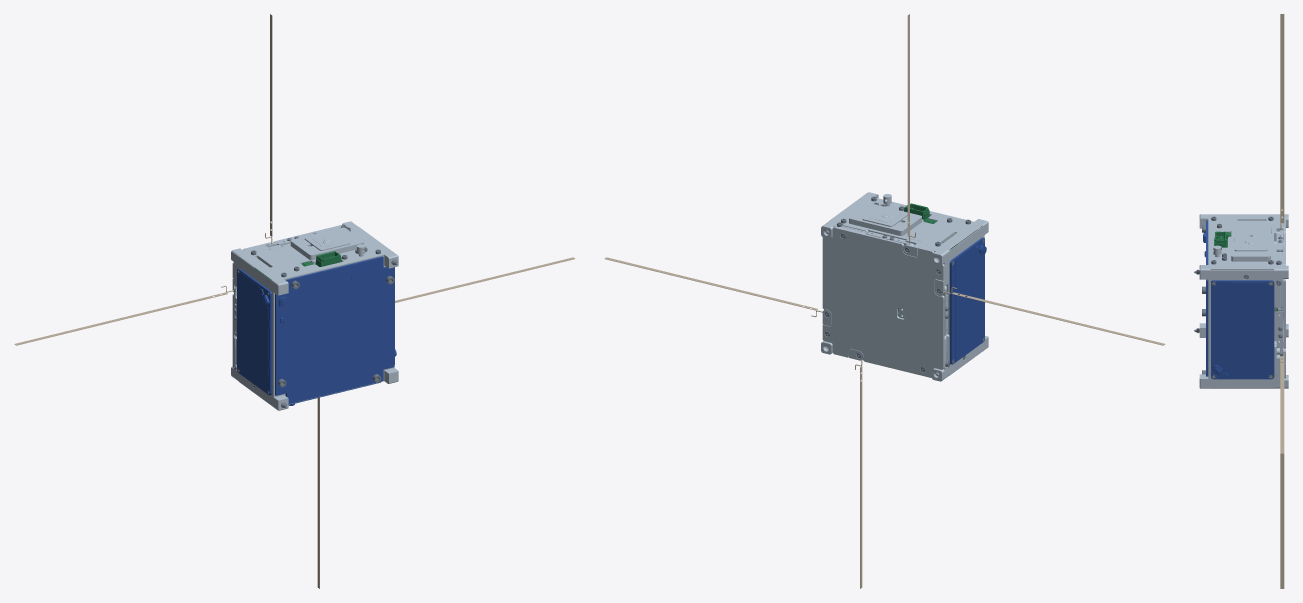
Rendered from P-Dot-deployed.glb.
The picture shows the model from 3 angles, left to right: view 1: azimuth 30°, elevation 25°; view 2: azimuth 150°, elevation 25°; view 3: azimuth 270°, elevation 25°; orthographic projection. The views are drawn at different scales.
Parts seen in each view (by area): view 1: 0197_11_SPPDMOSPT003-12022026, 0001_11_SPPDMOSPS003, 0018_SPPD106_001, 0194_SPPD110_001, 0022_SPPD106_009, 0038_SPPD101_001, 0000_SPPD109_001_Killswitch update; view 2: 0198_SPPD102_017, 0001_11_SPPDMOSPS003, 0018_SPPD106_001, 0038_SPPD101_001, 0022_SPPD106_009, 0000_SPPD109_001_Killswitch update; view 3: 0011_11_SPPDMOSPS003, 0018_SPPD106_001, 0038_SPPD101_001, 0008_SPPD108_001, SPPD102_005_Deployed-2, 0194_SPPD110_001, 0022_SPPD106_009, SPPD102_005_Deployed-1, 0019_SPPD106_006, SPPD102_005_Deployed-4, 0197_11_SPPDMOSPT003-12022026, 0198_SPPD102_017 (+2 smaller).
Part boxes in pixels (x1,y1,x2,y2): 0197_11_SPPDMOSPT003-12022026: (275, 256, 394, 403); 0001_11_SPPDMOSPS003: (237, 268, 272, 395); 0018_SPPD106_001: (239, 227, 391, 280); 0194_SPPD110_001: (271, 251, 398, 410); 0022_SPPD106_009: (290, 227, 363, 260); 0038_SPPD101_001: (231, 221, 358, 380); 0000_SPPD109_001_Killswitch update: (238, 257, 272, 405); 0198_SPPD102_017: (822, 227, 944, 377); 0001_11_SPPDMOSPS003: (949, 237, 986, 364); 0018_SPPD106_001: (830, 196, 982, 249); 0038_SPPD101_001: (821, 220, 950, 381); 0022_SPPD106_009: (849, 203, 921, 235); 0000_SPPD109_001_Killswitch update: (947, 226, 983, 375); 0011_11_SPPDMOSPS003: (1211, 280, 1274, 379); 0018_SPPD106_001: (1210, 214, 1273, 269); 0038_SPPD101_001: (1271, 214, 1288, 388); 0008_SPPD108_001: (1210, 270, 1273, 388); SPPD102_005_Deployed-2: (1280, 14, 1284, 223); 0194_SPPD110_001: (1199, 214, 1210, 388); 0022_SPPD106_009: (1231, 231, 1270, 261); SPPD102_005_Deployed-1: (1280, 454, 1284, 588); 0019_SPPD106_006: (1234, 236, 1267, 251); SPPD102_005_Deployed-4: (1280, 356, 1284, 453); 0197_11_SPPDMOSPT003-12022026: (1203, 220, 1208, 376); 0198_SPPD102_017: (1283, 219, 1285, 378).
Bounding box in the file's own units: 0.4623 × 0.4623 × 0.0715.
